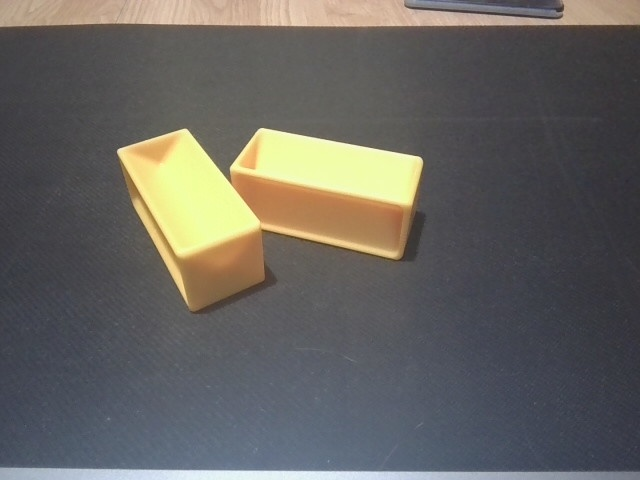YellowSample: (113, 125, 268, 314), (227, 125, 428, 266)
